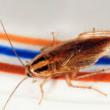cockroach: (22, 30, 109, 82)
